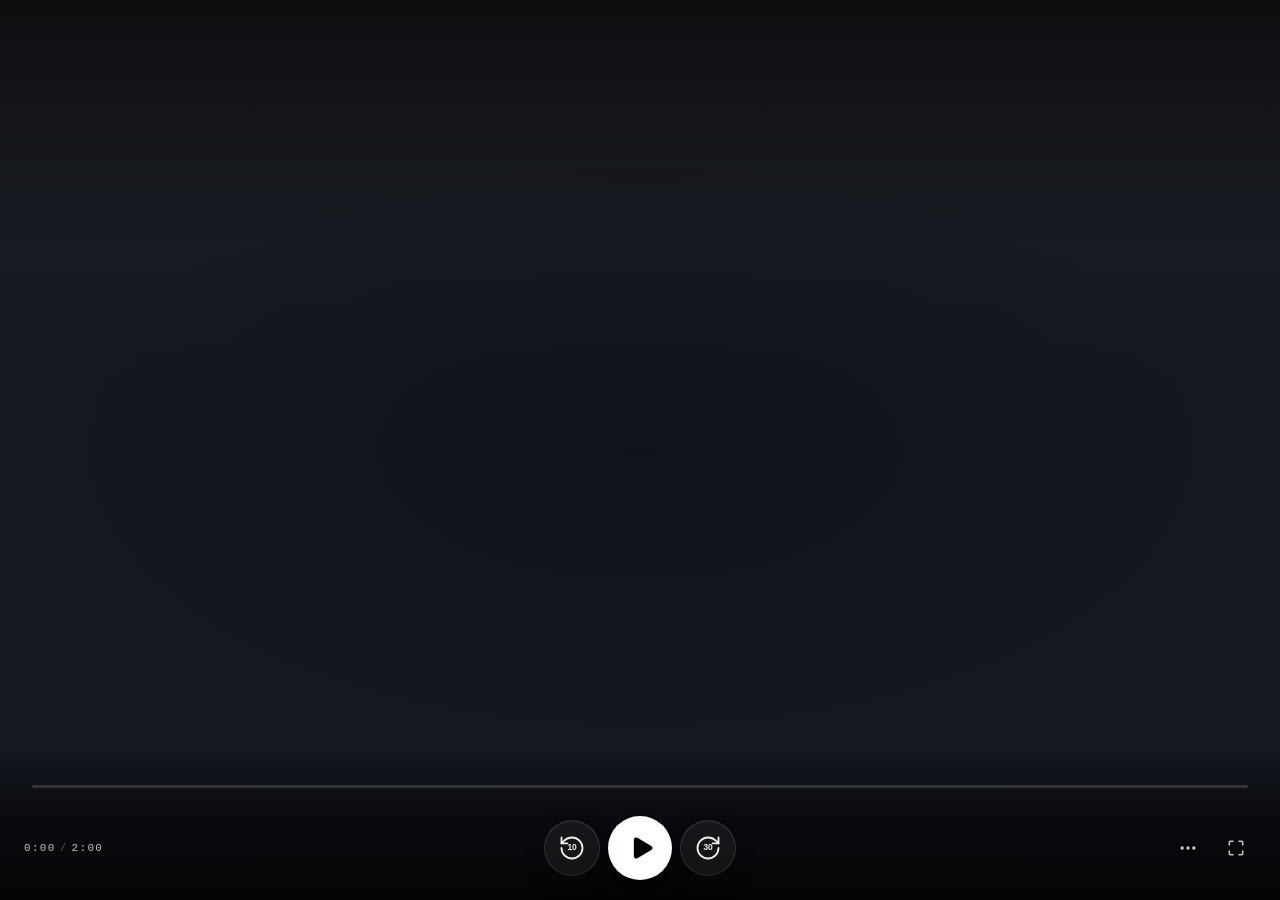
it: PlayerControls › moves desktop secondary controls into overflow as the player narrows
Expected: the button "Edit markers" is not shown
Click the button named "More player options" at (1188,848), box [1168, 828, 1208, 868]
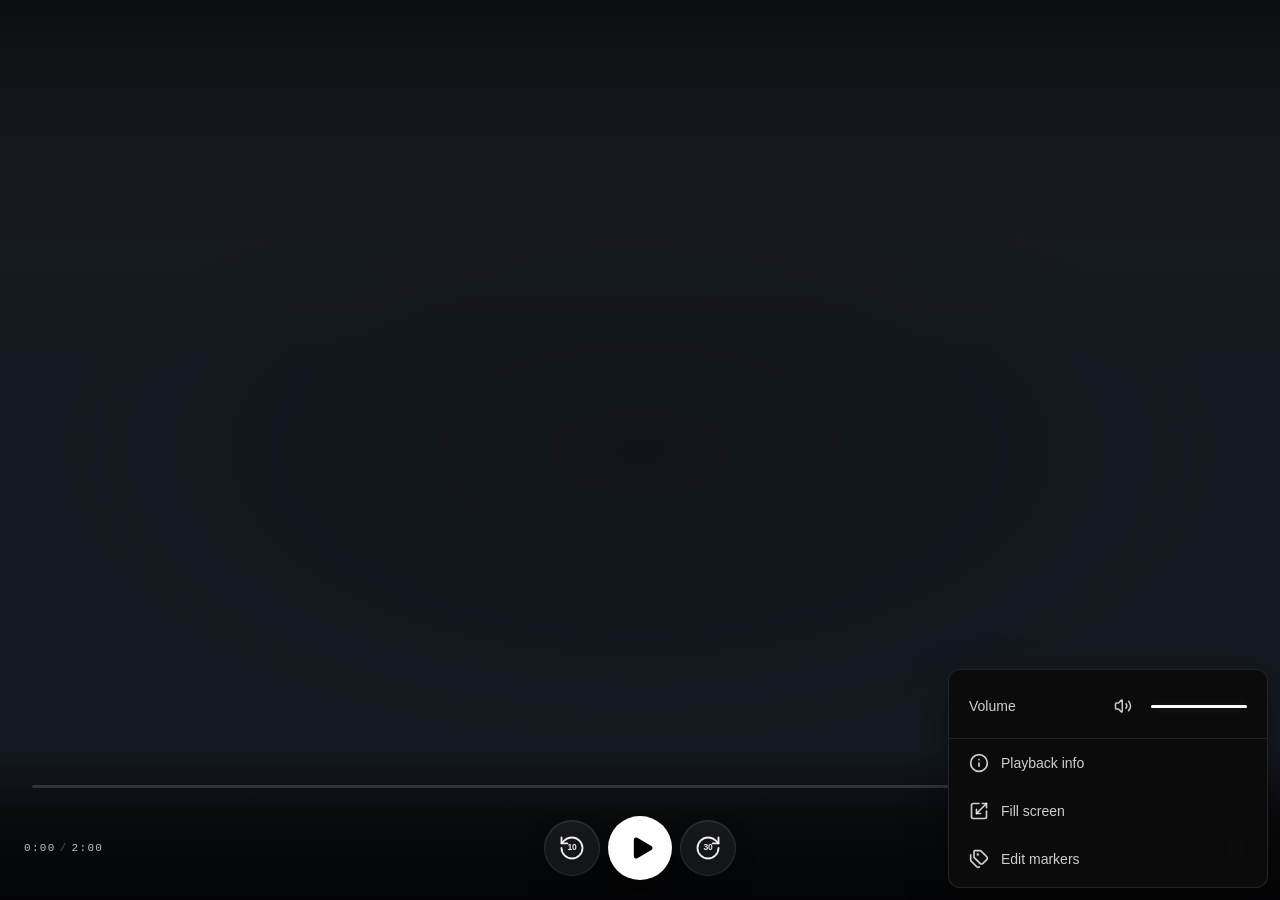
Expected: the menu item "Edit markers" is shown, [949, 835, 1267, 883]
Expected: the slider named "Volume" is shown, [1151, 704, 1247, 708]
Press Escape
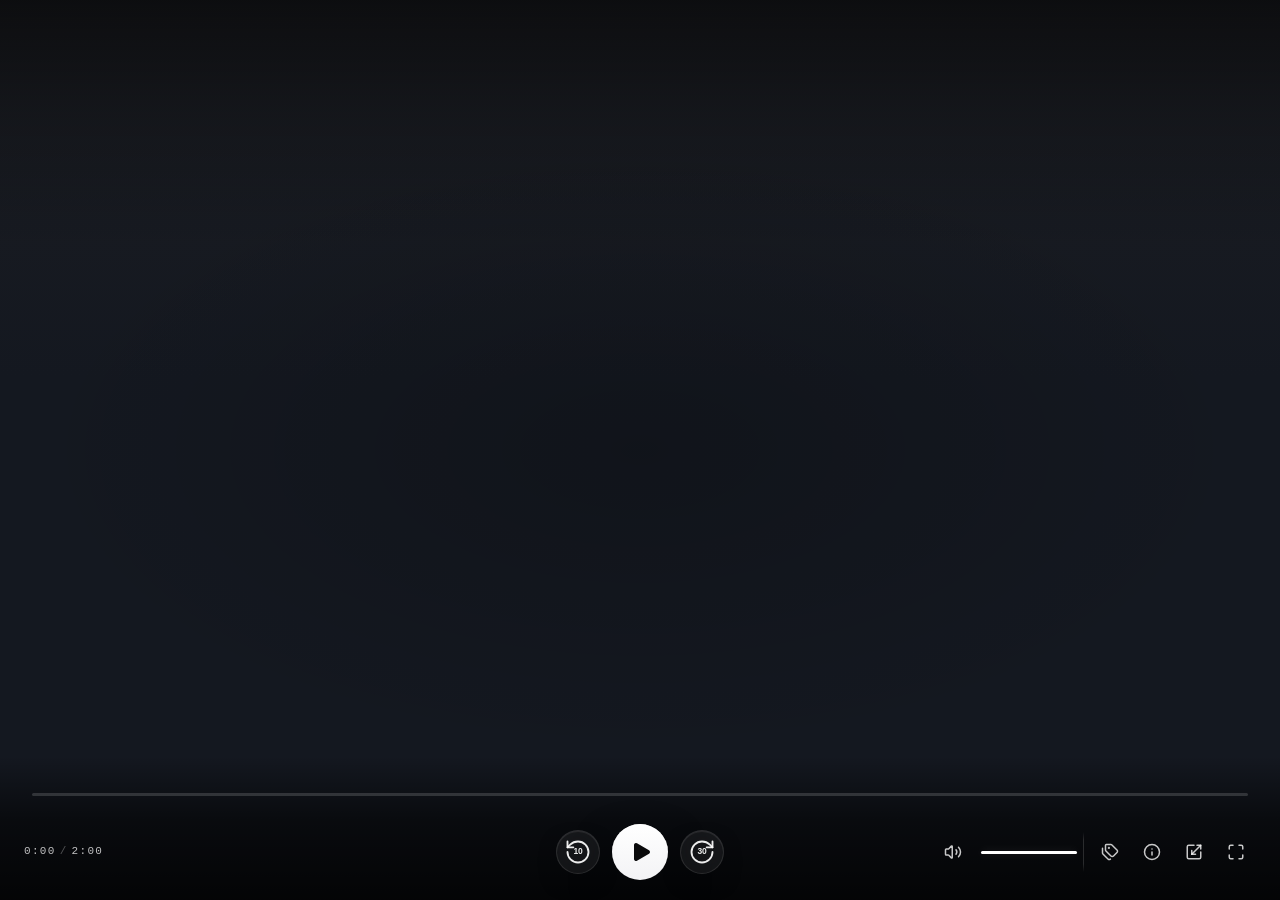
Expected: the menu is gone
